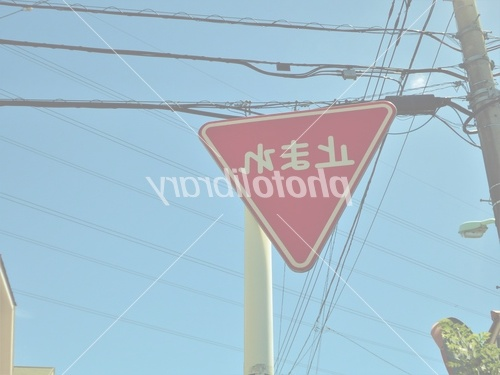Regulatory_sign_triangle: (189, 91, 402, 275)
